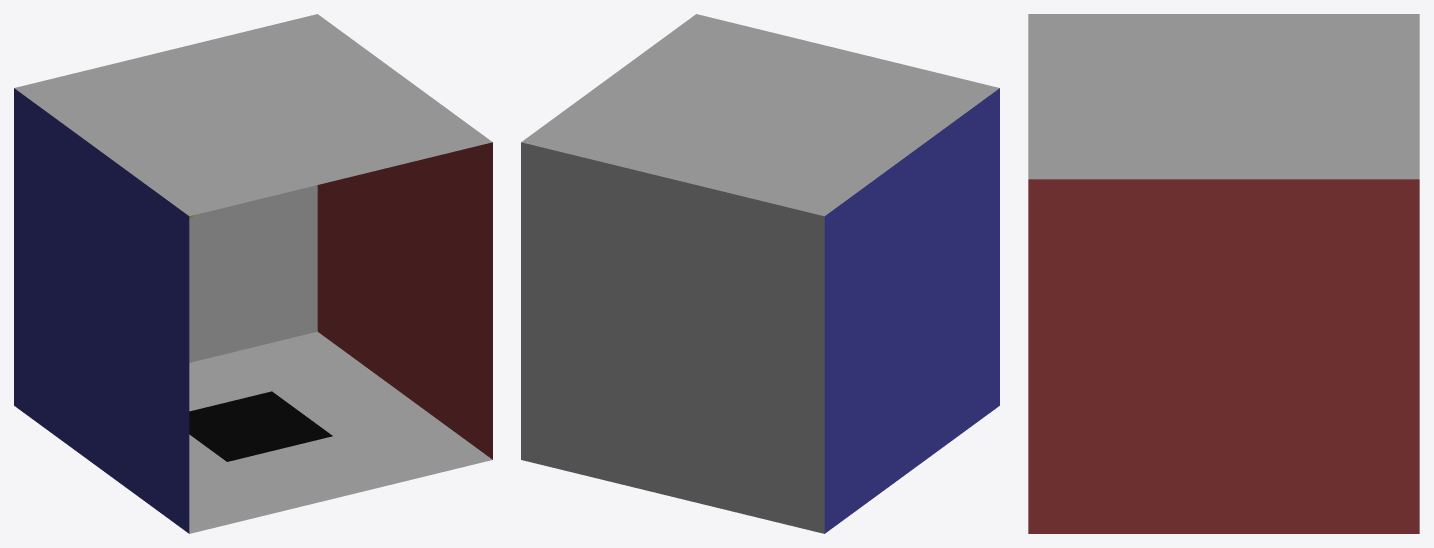
File: cornellbox_cubes.obj
3 views of the same model, side by side, from view 1: azimuth 30°, elevation 25°; view 2: azimuth 150°, elevation 25°; view 3: azimuth 270°, elevation 25° (orthographic). The views are drawn at different scales.
Parts seen in each view (by area): view 1: Plane.002_wall3_right_wall, Plane_Floor_floor, Plane.001_wall1_left_wall, Plane.006_Teto_teto, Plane.003_wall2_back_wall, Plane.004_Plane_Light; view 2: Plane.003_wall2_back_wall, Plane.002_wall3_right_wall, Plane_Floor_floor; view 3: Plane.001_wall1_left_wall, Plane_Floor_floor.
Part boxes in pixels (x1,y1,x2,y2): Plane.002_wall3_right_wall: [14, 88, 189, 533]; Plane_Floor_floor: [14, 14, 492, 216]; Plane.001_wall1_left_wall: [317, 142, 492, 459]; Plane.006_Teto_teto: [189, 331, 492, 533]; Plane.003_wall2_back_wall: [189, 185, 317, 362]; Plane.004_Plane_Light: [189, 391, 332, 461]; Plane.003_wall2_back_wall: [521, 142, 824, 533]; Plane.002_wall3_right_wall: [824, 88, 999, 533]; Plane_Floor_floor: [521, 14, 999, 216]; Plane.001_wall1_left_wall: [1028, 179, 1419, 533]; Plane_Floor_floor: [1028, 14, 1419, 179].
Size of the model in its own units: 2 by 2 by 2.
